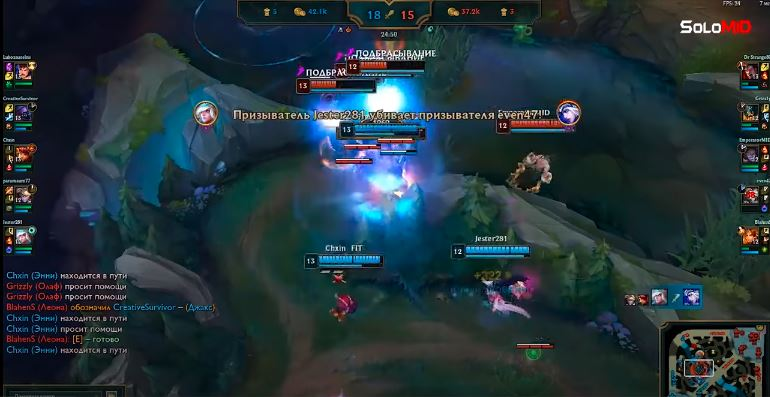dog: (332, 60, 427, 80), (302, 250, 385, 271), (495, 114, 577, 135), (450, 241, 532, 261), (292, 75, 380, 93), (345, 58, 430, 75), (335, 126, 431, 141), (337, 120, 420, 136)
